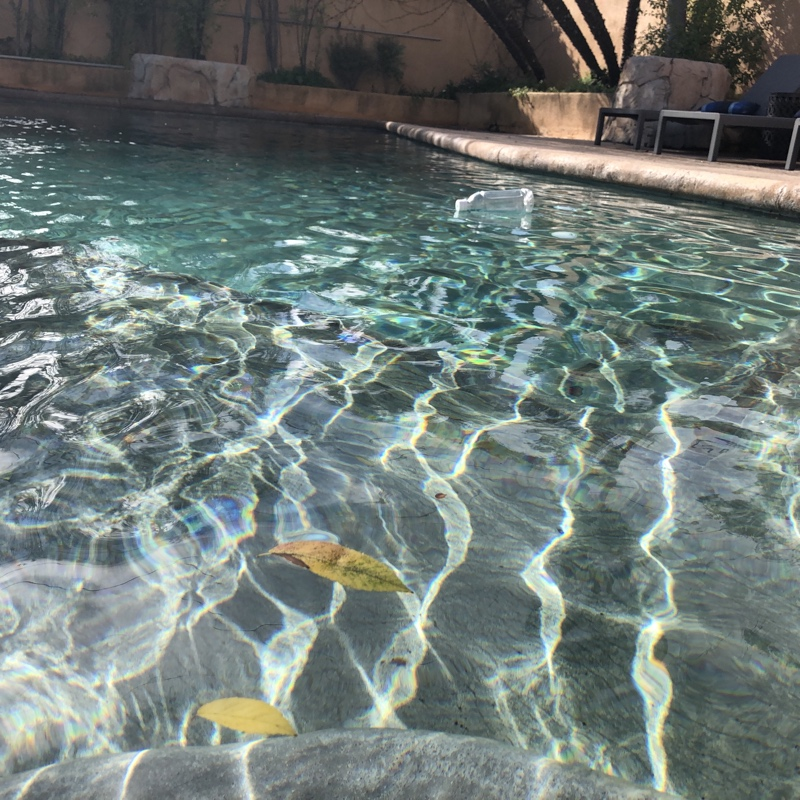Plastic Bottle: (453, 184, 538, 218)
